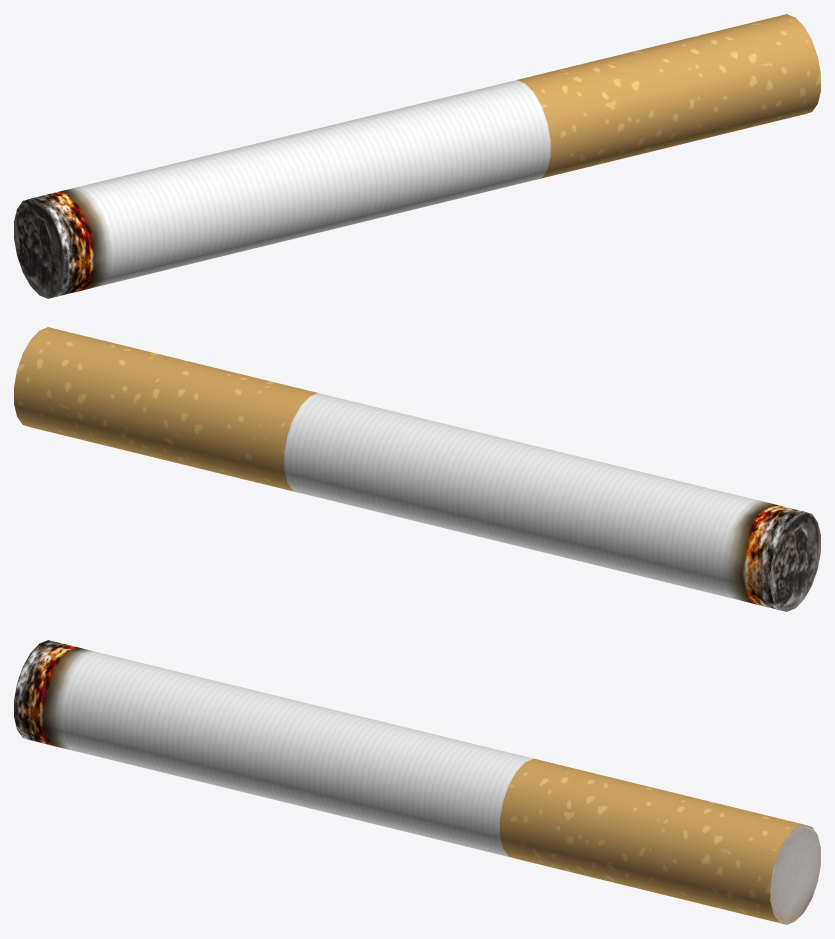
File: Clope.FBX
3 views of the same model, one above another, from view 1: azimuth 30°, elevation 25°; view 2: azimuth 150°, elevation 25°; view 3: azimuth 330°, elevation 25° (orthographic).
Parts seen in each view (by area): view 1: Cylinder001, L'émissive, Arrière; view 2: Cylinder001, L'émissive, Arrière; view 3: Cylinder001, L'émissive, Avant.
Boxes of the visible parts, <box> form: Cylinder001: <box>71,14,820,288</box>; L'émissive: <box>31,189,104,298</box>; Arrière: <box>14,198,64,298</box>; Cylinder001: <box>14,327,763,601</box>; L'émissive: <box>730,502,803,611</box>; Arrière: <box>770,511,820,611</box>; Cylinder001: <box>54,650,803,924</box>; L'émissive: <box>14,640,87,748</box>; Avant: <box>770,824,820,924</box>.
Size of the model in its own units: 92.5 by 10.88 by 10.71.
